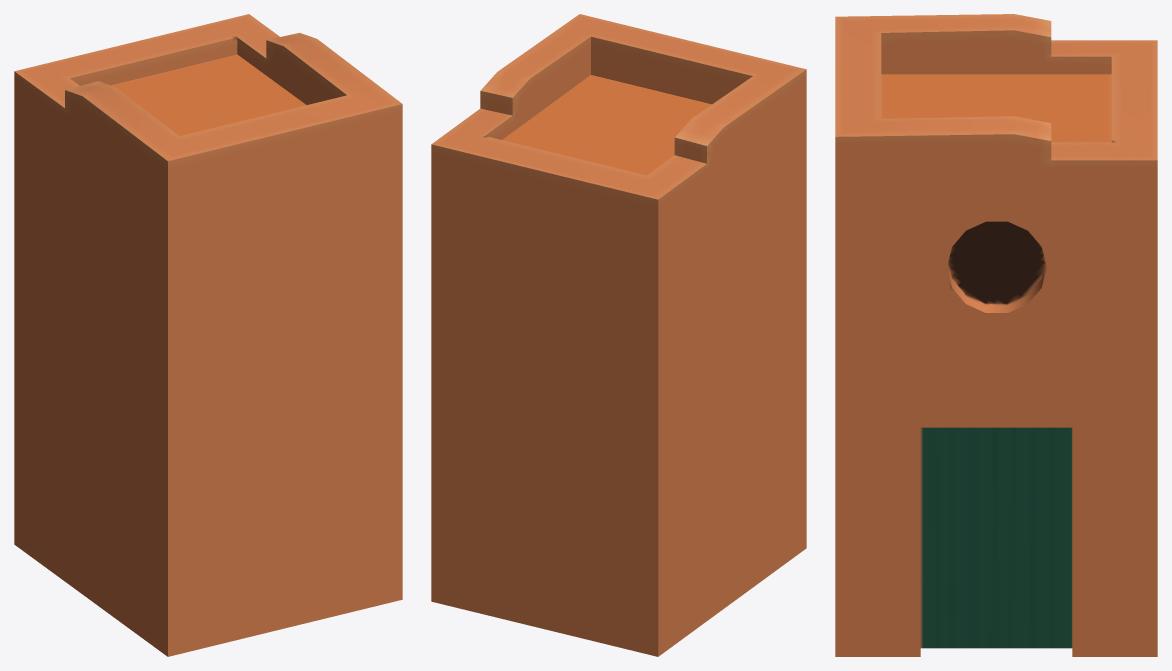
The model's file is House3.fbx.
3 views of the same model, side by side, from view 1: azimuth 30°, elevation 25°; view 2: azimuth 150°, elevation 25°; view 3: azimuth 270°, elevation 25° (orthographic). The views are drawn at different scales.
Visible parts, largest first — view 1: House3; view 2: House3; view 3: House3.
Boxes of the visible parts, x1,y1,x2,y2 form: House3: (14,14,402,656); House3: (431,14,806,656); House3: (835,14,1157,656).
Bounding box in the file's own units: 450 × 914 × 510.
